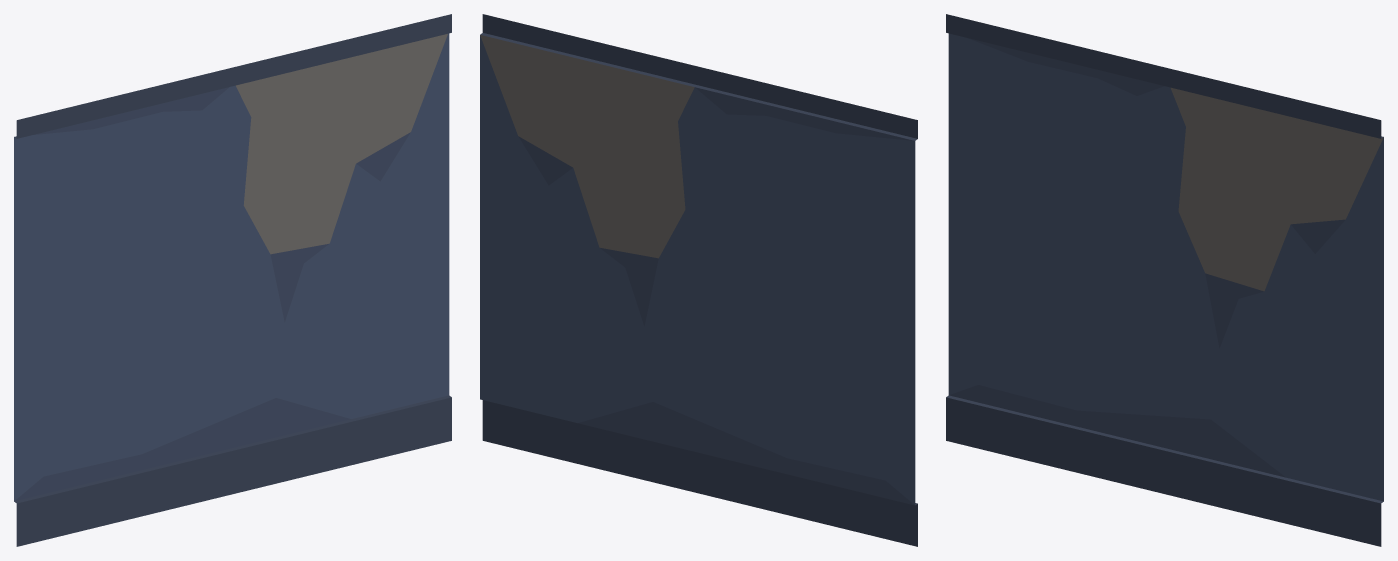
The model's file is AI_Env_Wall_Blue_TornWallpaper_01.fbx.
The picture shows the model from 3 angles, left to right: view 1: azimuth 30°, elevation 25°; view 2: azimuth 150°, elevation 25°; view 3: azimuth 330°, elevation 25°; orthographic projection.
Visible parts, largest first — view 1: AI_Env_Wall_Blue_TornWallpaper_01; view 2: AI_Env_Wall_Blue_TornWallpaper_01; view 3: AI_Env_Wall_Blue_TornWallpaper_01.
Boxes of the visible parts, x1=… form: AI_Env_Wall_Blue_TornWallpaper_01: x1=14, y1=14, x2=451, y2=546; AI_Env_Wall_Blue_TornWallpaper_01: x1=480, y1=14, x2=917, y2=546; AI_Env_Wall_Blue_TornWallpaper_01: x1=946, y1=14, x2=1383, y2=546.
Size of the model in its own units: 5 by 4.69 by 0.0549.
